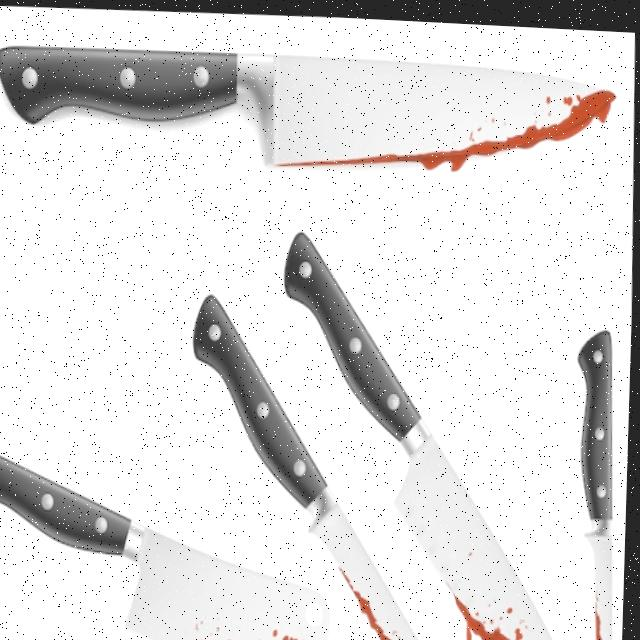knife: (275, 219, 580, 640), (0, 26, 618, 184), (186, 284, 441, 640), (0, 428, 334, 640), (572, 317, 626, 640)
